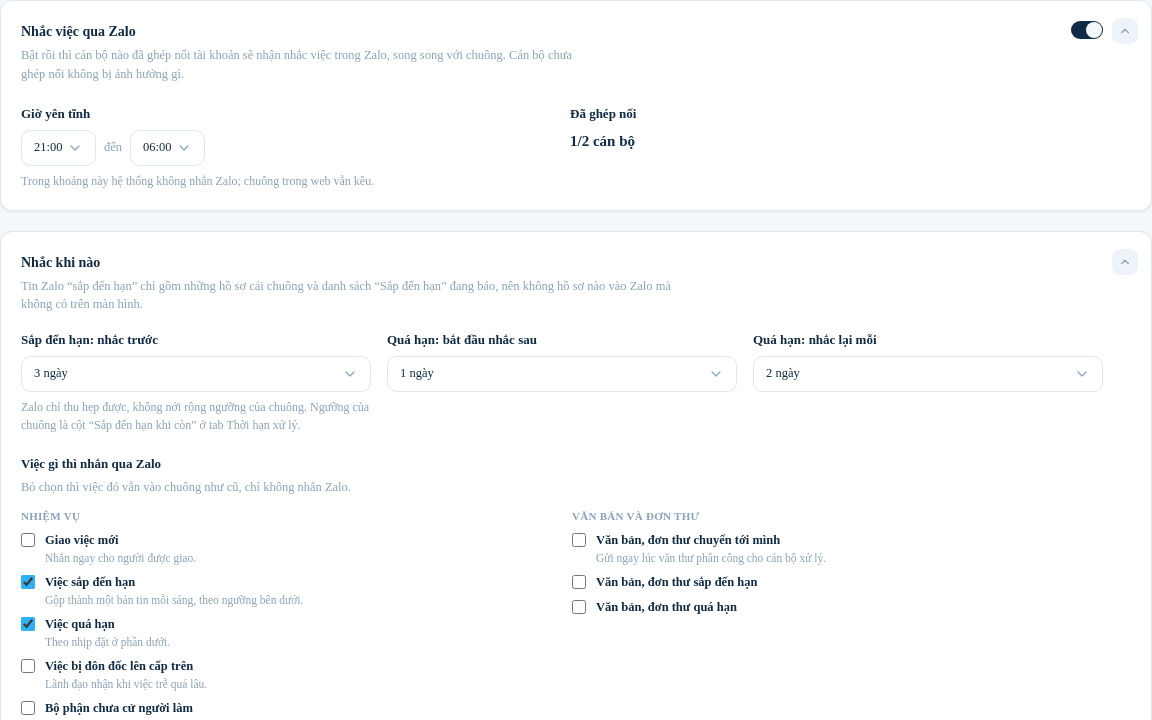
Scenario: ZaloChannelTab — admin.zalo, denied case first › 422 due_soon_days_out_of_range → the server's sentence UNDER the select, no toast, value back to stored
Step 1. Select "9 ngày" in the dropdown with id "zalo-due-soon-days" → (196, 374), box left=21, top=356, right=371, bottom=392
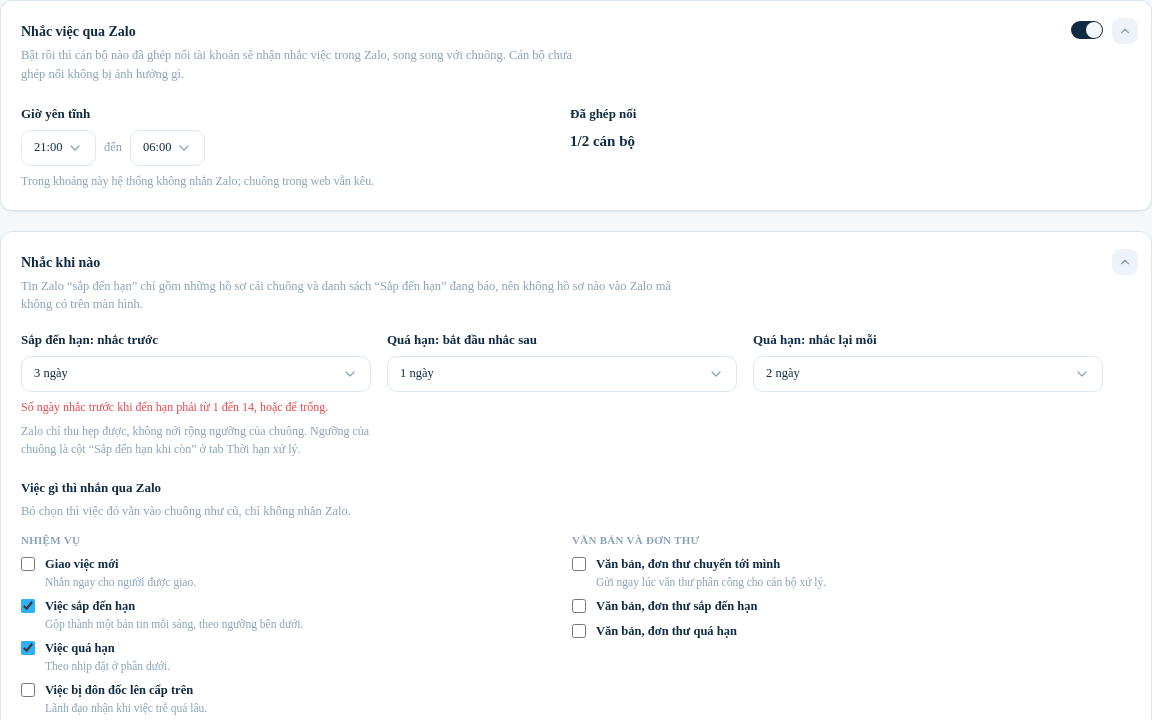
Expected: the message with id "zalo-due-soon-error" reads "Số ngày nhắc trước khi đến hạn phải từ 1 đến 14, hoặc để trống.", left=21, top=400, right=328, bottom=414
Step 2. Select "5 ngày" in the dropdown with id "zalo-due-soon-days" → (196, 374), box left=21, top=356, right=371, bottom=392
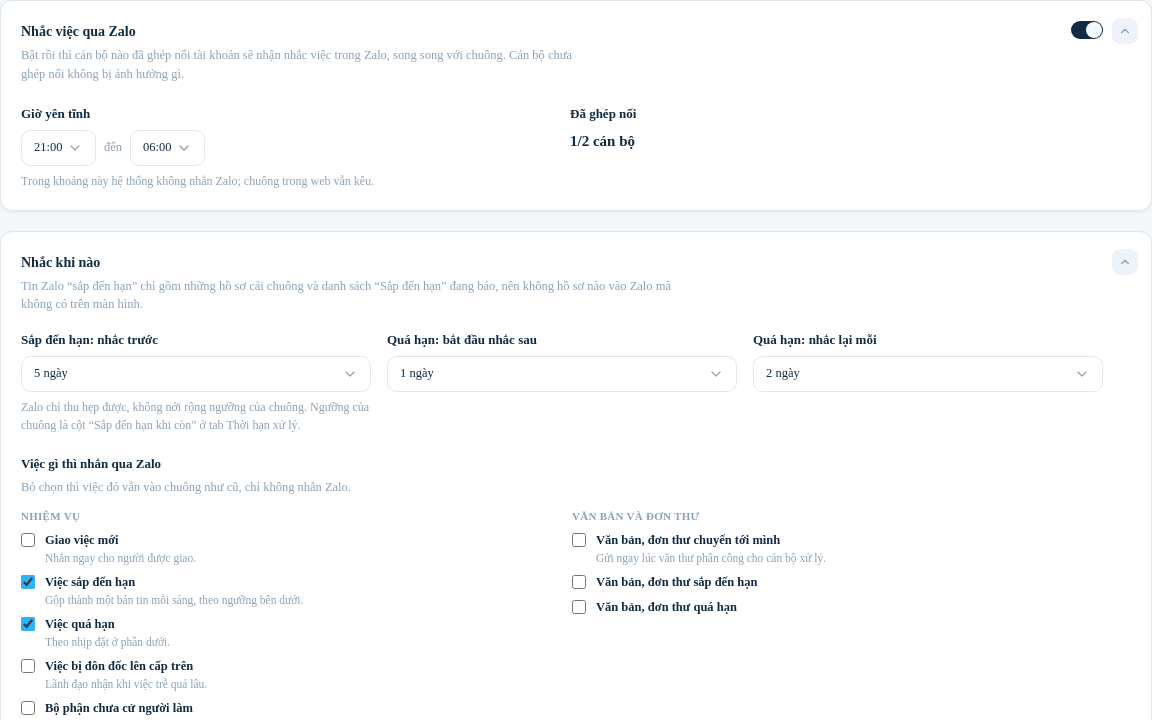
Expected: the message with id "zalo-due-soon-error" is gone
